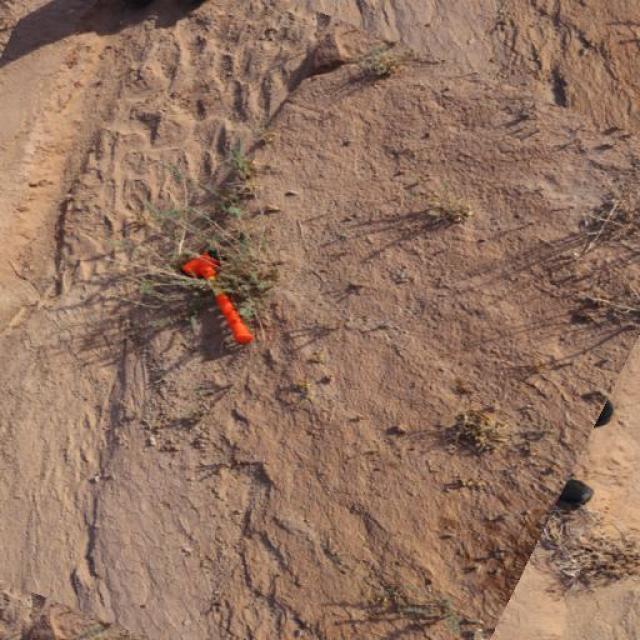mallet: (182, 250, 256, 345)
